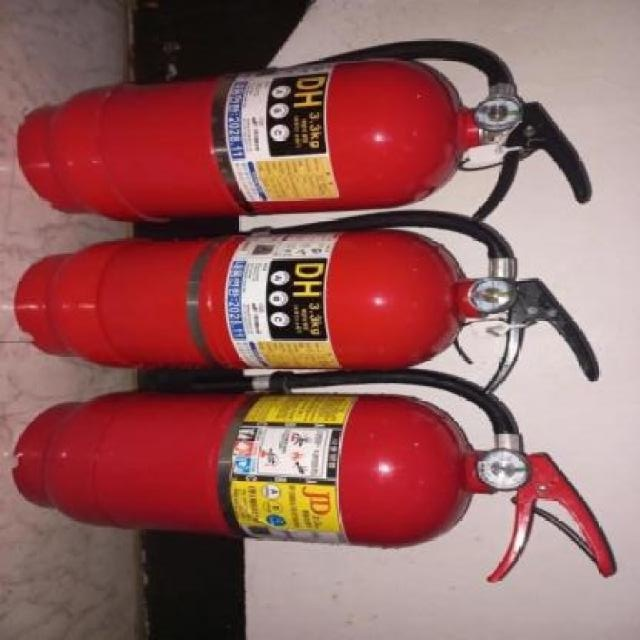fire extinguisher: (13, 368, 618, 583), (15, 209, 602, 395), (15, 38, 594, 222)
